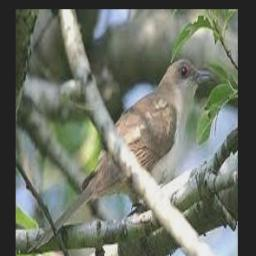Cuckoo: (28, 59, 213, 255)
